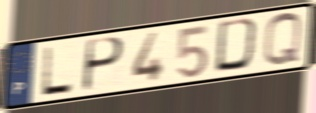4: (129, 30, 166, 85)
5: (174, 22, 211, 80)
D: (212, 16, 263, 75)
L: (39, 44, 75, 98)
P: (80, 36, 127, 95)
Q: (261, 11, 304, 70)
